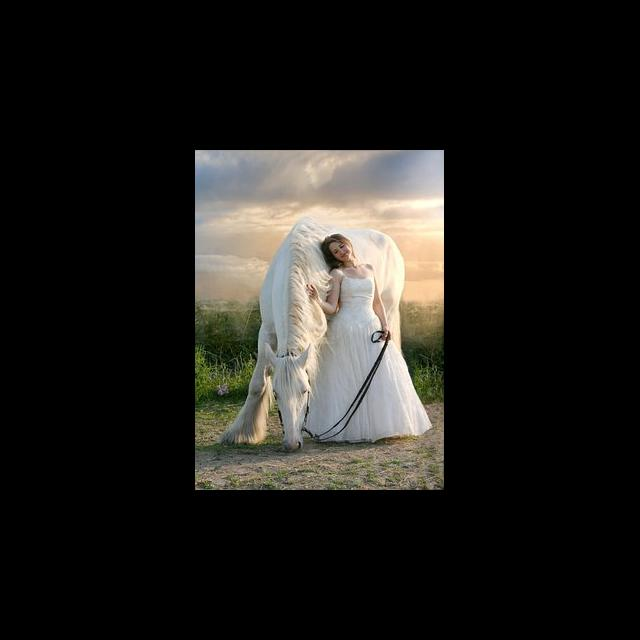female: (323, 226, 360, 282)
